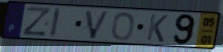9: (171, 13, 198, 46)
I: (48, 6, 63, 39)
K: (145, 13, 169, 44)
O: (111, 11, 137, 42)
V: (84, 9, 112, 41)
Z: (21, 5, 53, 37)
